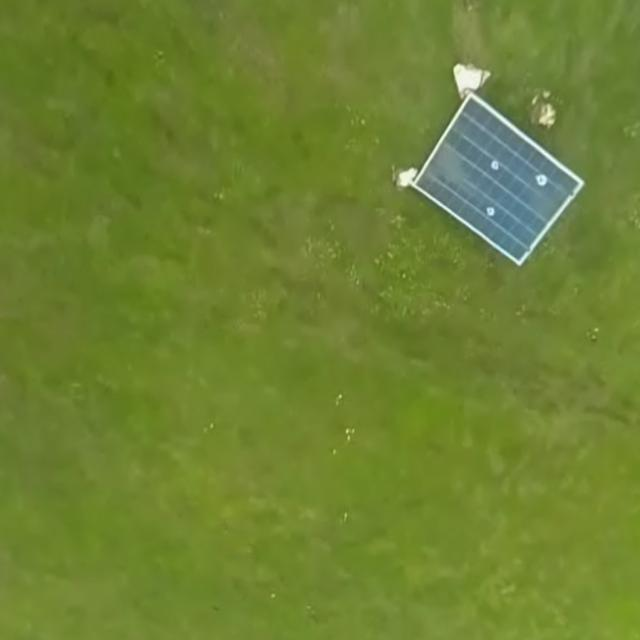Bird-drop: (536, 173, 549, 187), (486, 206, 498, 218), (488, 158, 499, 171)
